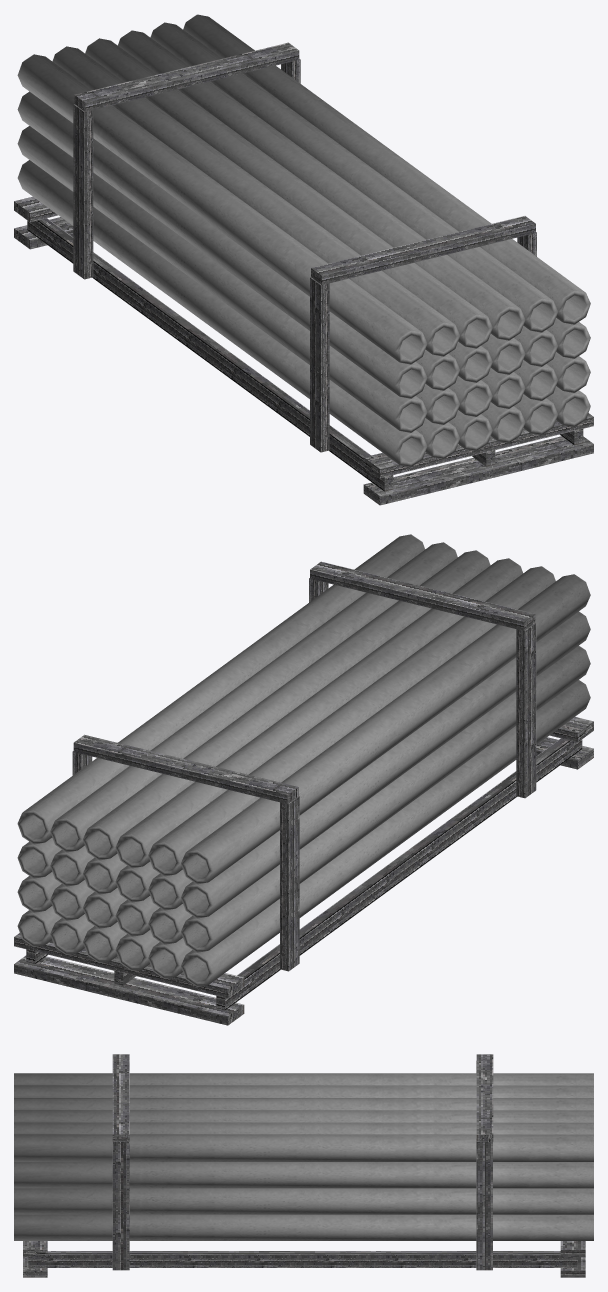
Rendered from Classic64_PvcPipePallet_Model.fbx.
The picture shows the model from 3 angles, top to bottom: view 1: azimuth 30°, elevation 25°; view 2: azimuth 150°, elevation 25°; view 3: azimuth 270°, elevation 25°; orthographic projection. The views are drawn at different scales.
Visible parts, largest first — view 1: Classic64_PvcPipePallet_Part000, Classic64_PvcPipePallet_Part001; view 2: Classic64_PvcPipePallet_Part000, Classic64_PvcPipePallet_Part001; view 3: Classic64_PvcPipePallet_Part000, Classic64_PvcPipePallet_Part001.
Boxes of the visible parts, bbox=[...] form: Classic64_PvcPipePallet_Part000: bbox=[17, 14, 590, 466]; Classic64_PvcPipePallet_Part001: bbox=[14, 42, 593, 505]; Classic64_PvcPipePallet_Part000: bbox=[17, 534, 590, 986]; Classic64_PvcPipePallet_Part001: bbox=[14, 561, 593, 1025]; Classic64_PvcPipePallet_Part000: bbox=[14, 1073, 593, 1240]; Classic64_PvcPipePallet_Part001: bbox=[23, 1054, 585, 1277].
Bounding box in the file's own units: 1.01 × 0.832 × 3.05.
